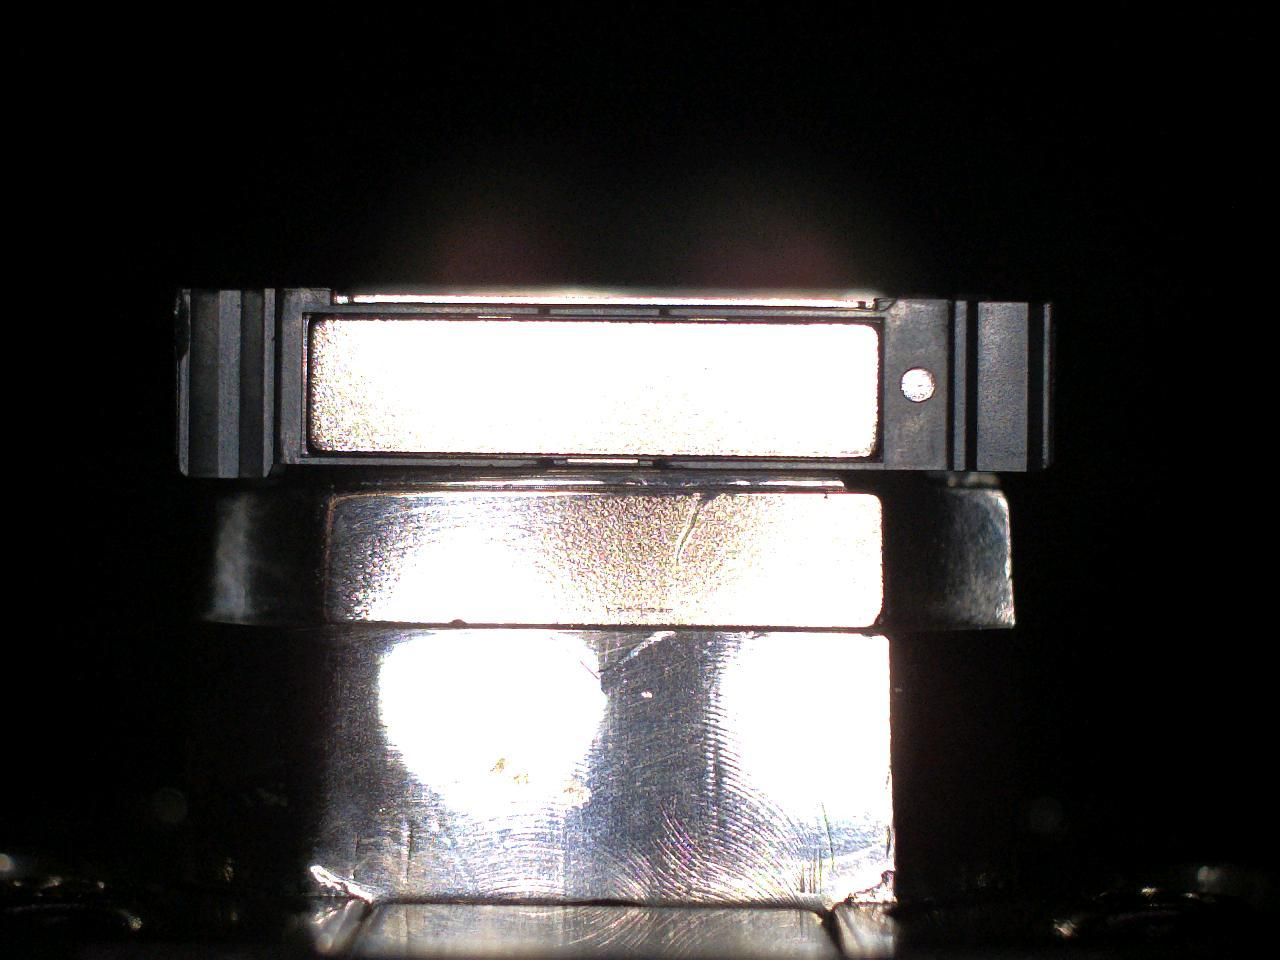frame: (175, 289, 1049, 477)
gap: (307, 449, 541, 459), (310, 313, 540, 323), (671, 317, 881, 325), (669, 456, 883, 463), (552, 315, 658, 323), (552, 454, 652, 460)
magnetic: (309, 321, 878, 457)
